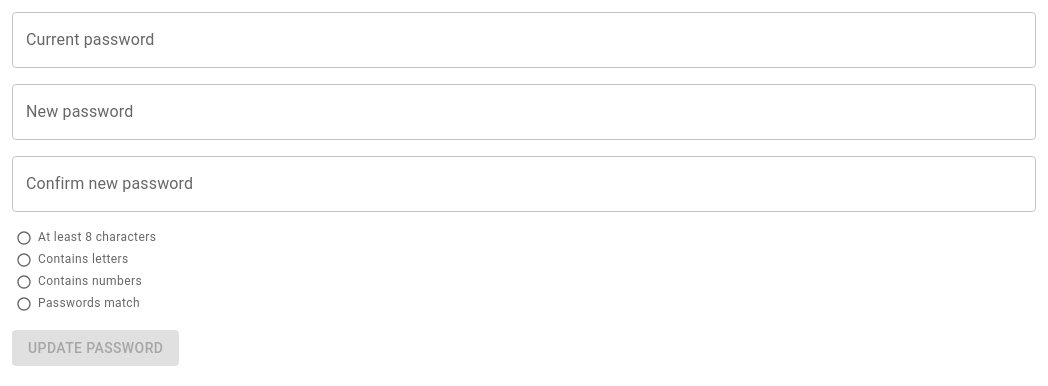
Test: ChangePasswordForm › keeps submit disabled until the current password and a valid new pair are entered
Check: the button "Update password" is disabled, box [12,330,179,366]
Type "old-pass1" into the password field labelled "Current password" at {"x": 524, "y": 40}, box [12,12,1036,68]
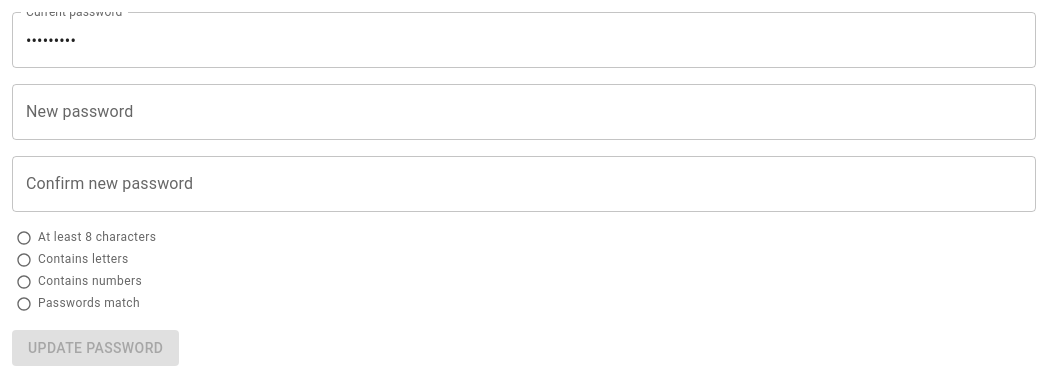
Type "new-pass1" into the password field labelled "New password" at {"x": 524, "y": 112}, box [12,84,1036,140]
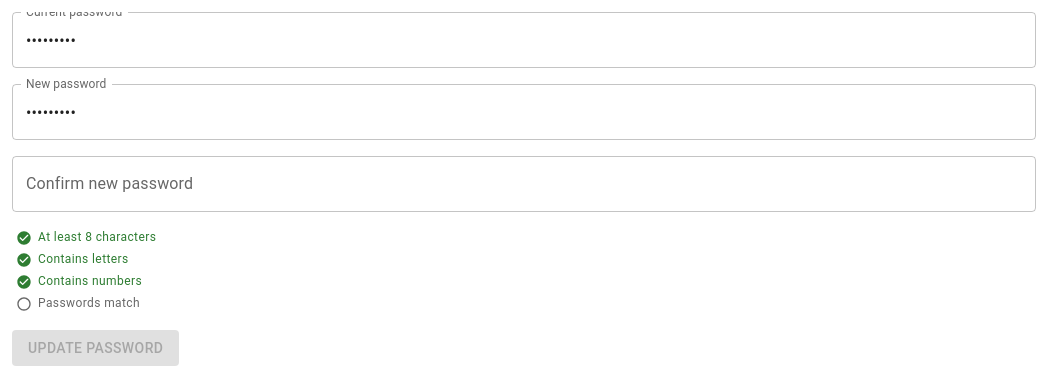
Check: the button "Update password" is disabled, box [12,330,179,366]
Type "new-pass1" into the password field labelled "Confirm new password" at {"x": 524, "y": 184}, box [12,156,1036,212]
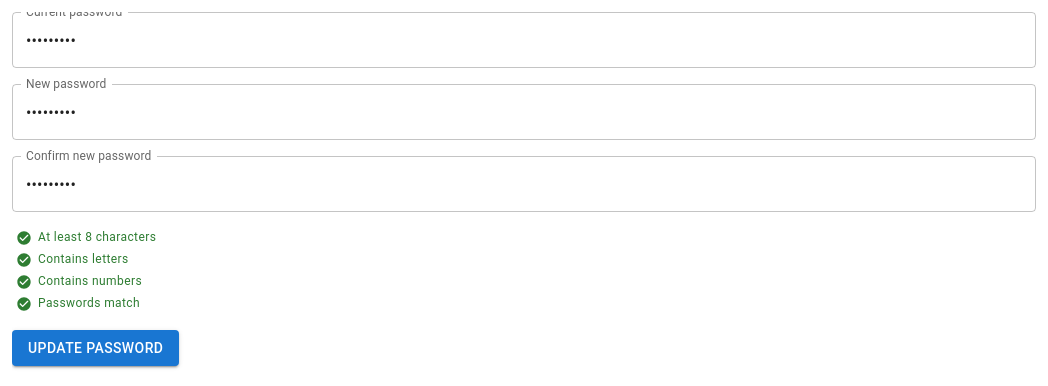
Check: the button "Update password" is enabled, box [12,330,179,366]
